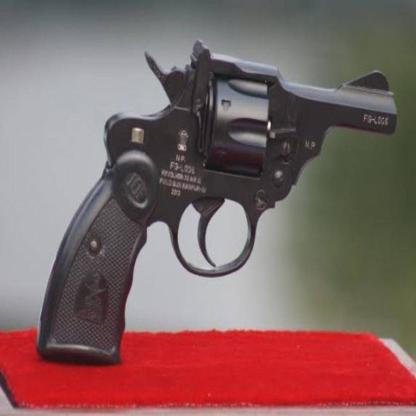handgun: (37, 39, 398, 367)
